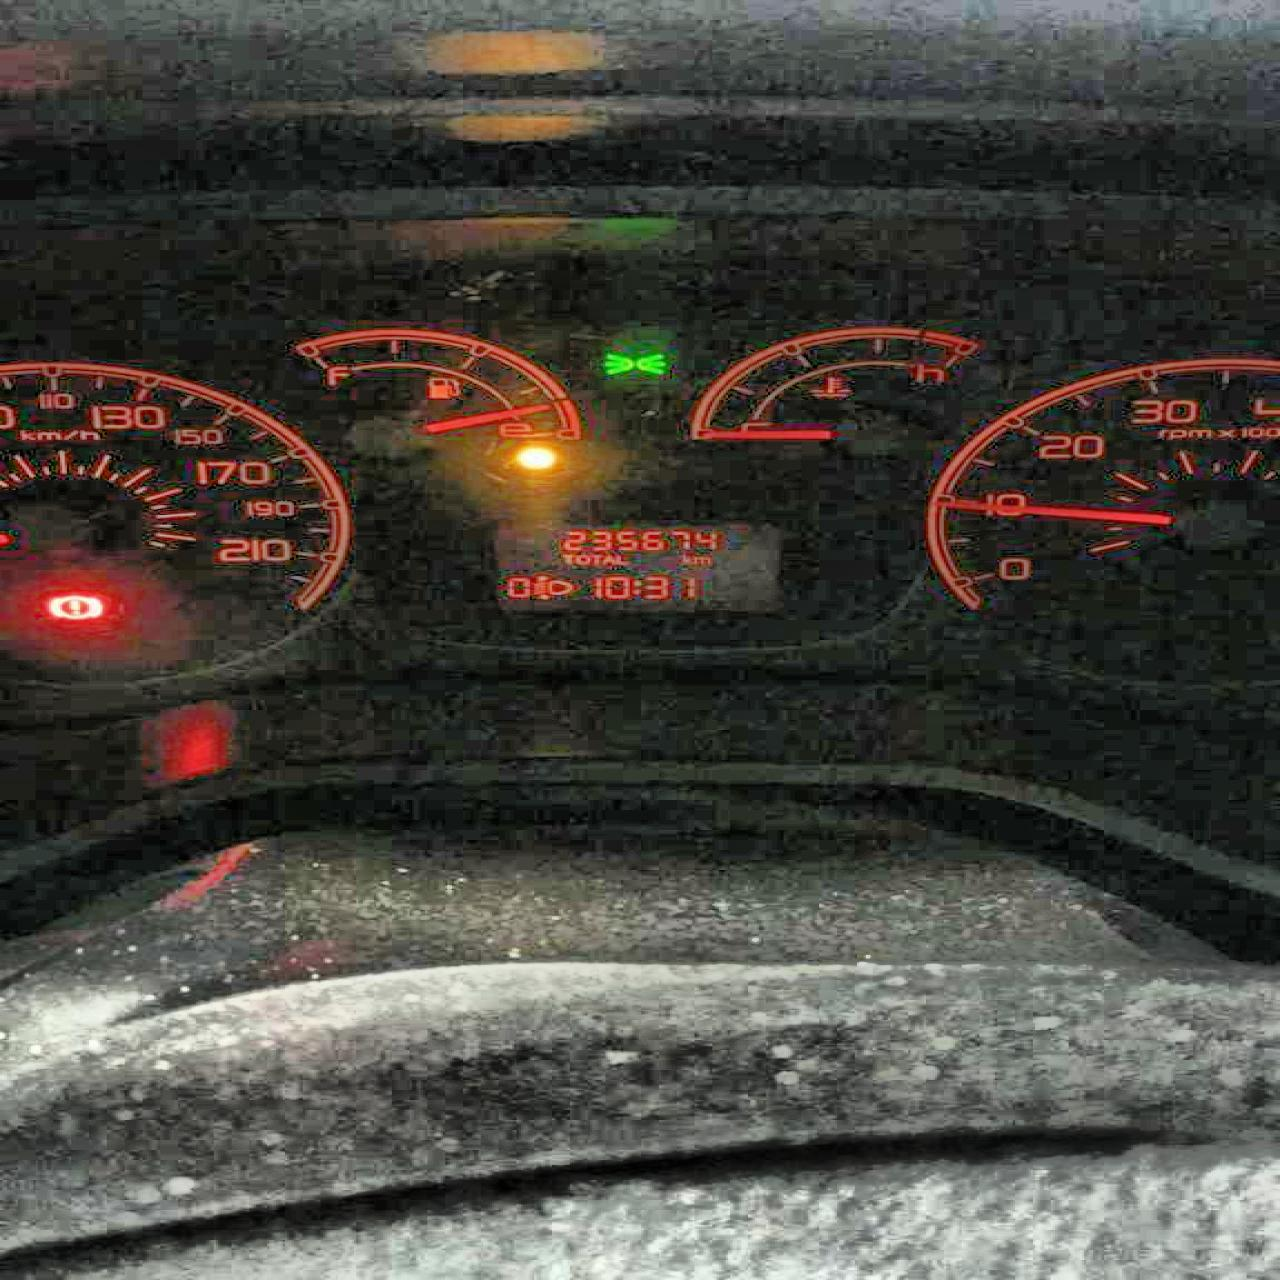0: (601, 574, 628, 598), (505, 577, 530, 598)
1: (683, 577, 696, 599), (592, 577, 601, 599)
2: (563, 530, 583, 550)
3: (644, 573, 668, 599), (590, 529, 610, 550)
4: (693, 531, 716, 549)
5: (614, 530, 636, 550)
6: (641, 530, 661, 549)
7: (670, 530, 690, 550)
X: (629, 579, 641, 595), (692, 554, 710, 564), (574, 554, 590, 564), (679, 552, 690, 564), (587, 554, 601, 564), (614, 554, 628, 564), (561, 552, 572, 564), (601, 553, 612, 563)
odometer: (481, 517, 760, 607)
